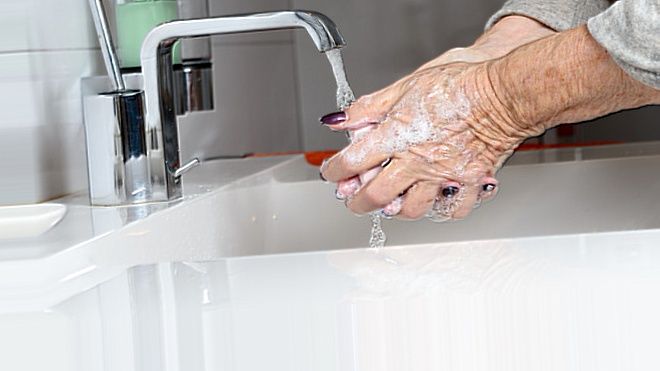washing hand: (219, 0, 524, 249)
